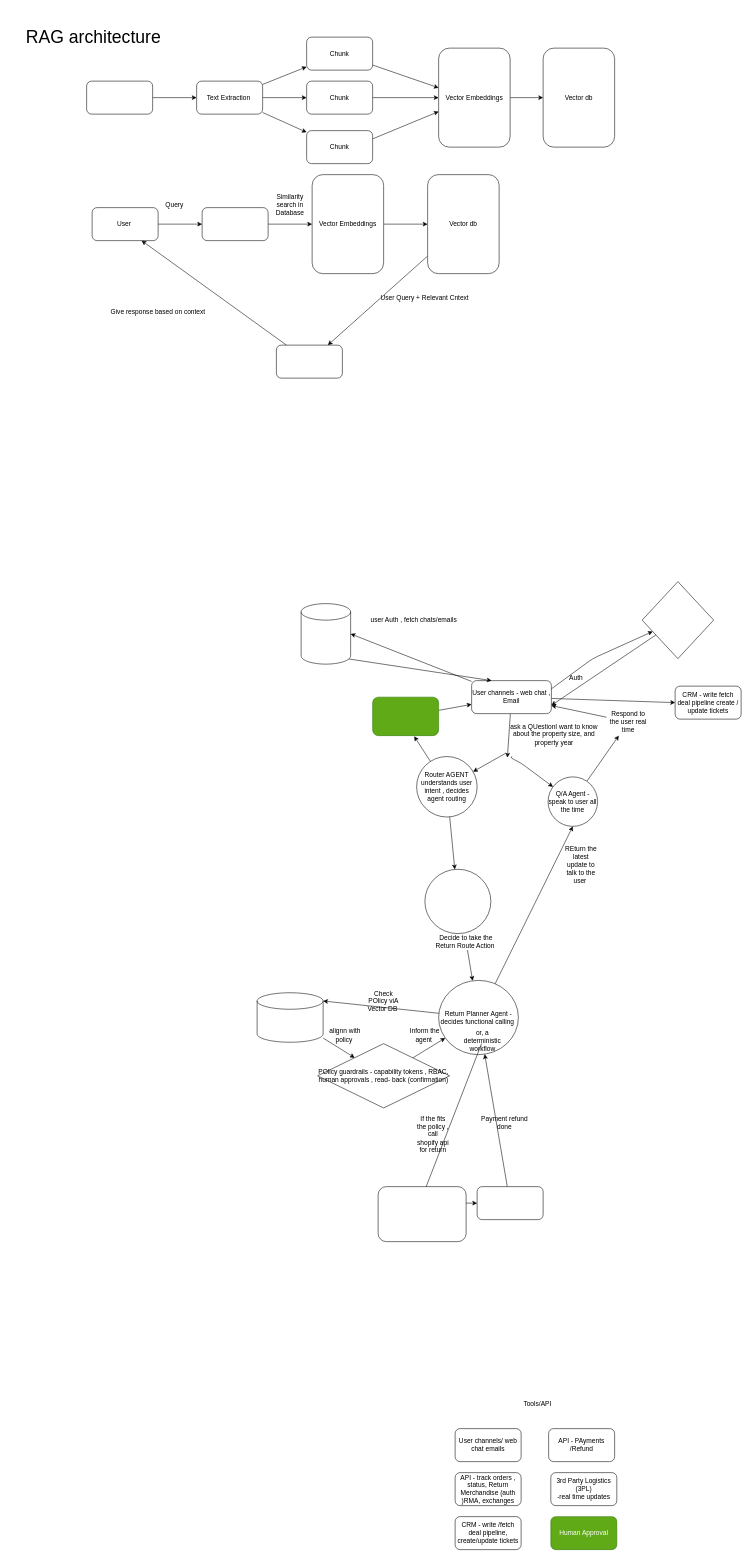
The diagram is 751 pixels wide and 1559 high, and some of its shapes have lost their labels. Each missing label, with the box of its shape:
Api - paymets/refund: (477, 1186, 543, 1220)
API TRACK ORDER SATUS , RMA EXCHANGES: (378, 1186, 466, 1242)
Gtaeway -Auth/SSO,PIIRate LImit,dedupe: (642, 581, 714, 659)
Human inthe loop: (372, 697, 439, 736)
LLM: (276, 345, 342, 378)
Pdf or document: (86, 81, 153, 114)
Planner agent - decides functional calling Or, a deterministic workflow: (424, 869, 491, 934)
RELATIONAL db: (301, 603, 351, 664)
Vector DB (FAQ'S , Policies): (257, 992, 323, 1042)
Write a prompt: (202, 207, 268, 241)
